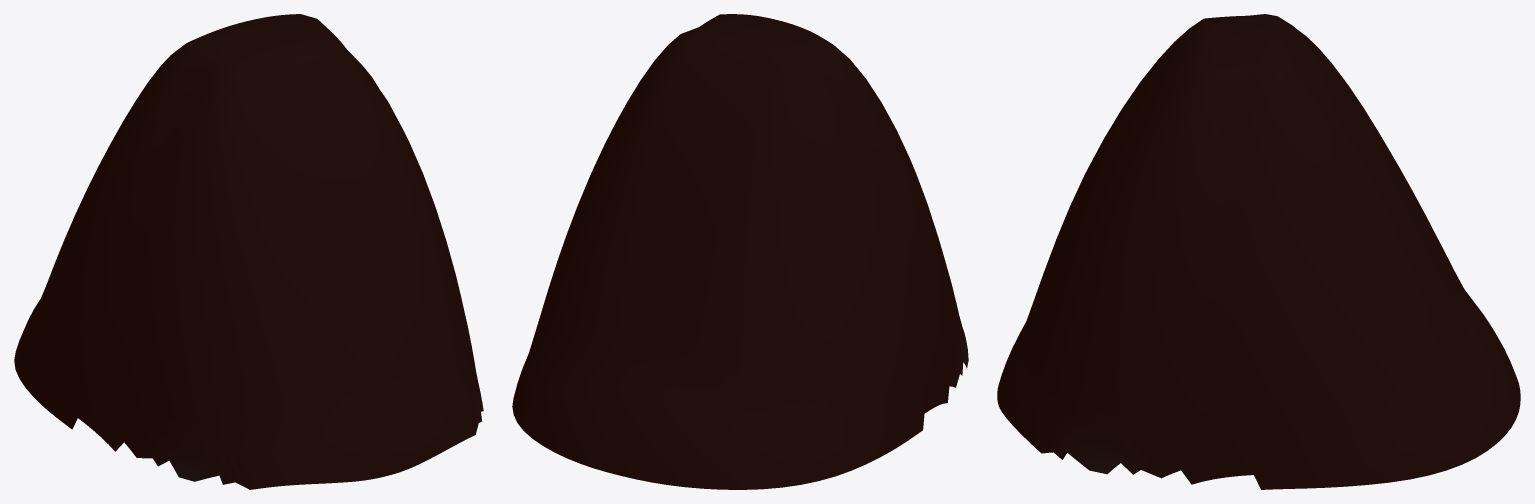
The model's file is front05.dae.
3 renders of one model, left to right at view 1: azimuth 30°, elevation 25°; view 2: azimuth 150°, elevation 25°; view 3: azimuth 270°, elevation 25°, orthographic. The views are drawn at different scales.
Parts seen in each view (by area): view 1: Body; view 2: Body; view 3: Body.
Boxes of the visible parts, x1,y1,x2,y2 form: Body: (14,14,483,489); Body: (512,14,968,489); Body: (997,14,1520,489).
Bounding box in the file's own units: 15.31 × 18.68 × 14.33.
